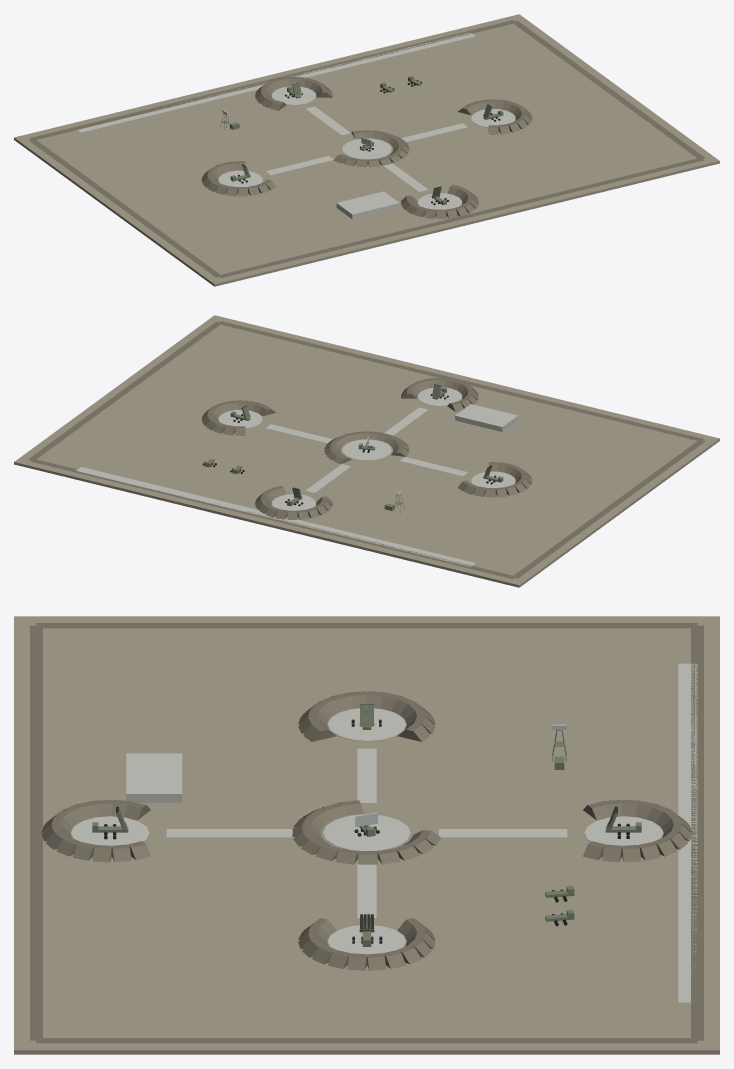
The model's file is irn_sam_bavar373.glb.
The picture shows the model from 3 angles, top to bottom: view 1: azimuth 30°, elevation 25°; view 2: azimuth 150°, elevation 25°; view 3: azimuth 270°, elevation 25°; orthographic projection. The views are drawn at different scales.
Visible parts, largest first — view 1: earth, earth_dark, concrete, drab; view 2: earth, earth_dark, concrete, drab; view 3: earth, earth_dark, concrete, drab.
Boxes of the visible parts, x1,y1,x2,y2 form: earth: [14, 14, 719, 286]; earth_dark: [28, 20, 705, 277]; concrete: [78, 32, 515, 219]; drab: [220, 76, 503, 205]; earth: [14, 315, 719, 587]; earth_dark: [28, 321, 705, 578]; concrete: [76, 387, 518, 566]; drab: [204, 384, 503, 512]; earth: [14, 616, 719, 1054]; earth_dark: [30, 623, 703, 1043]; concrete: [71, 663, 697, 1002]; drab: [92, 704, 641, 946].
Size of the model in its own units: 10 by 0.4078 by 6.88.
